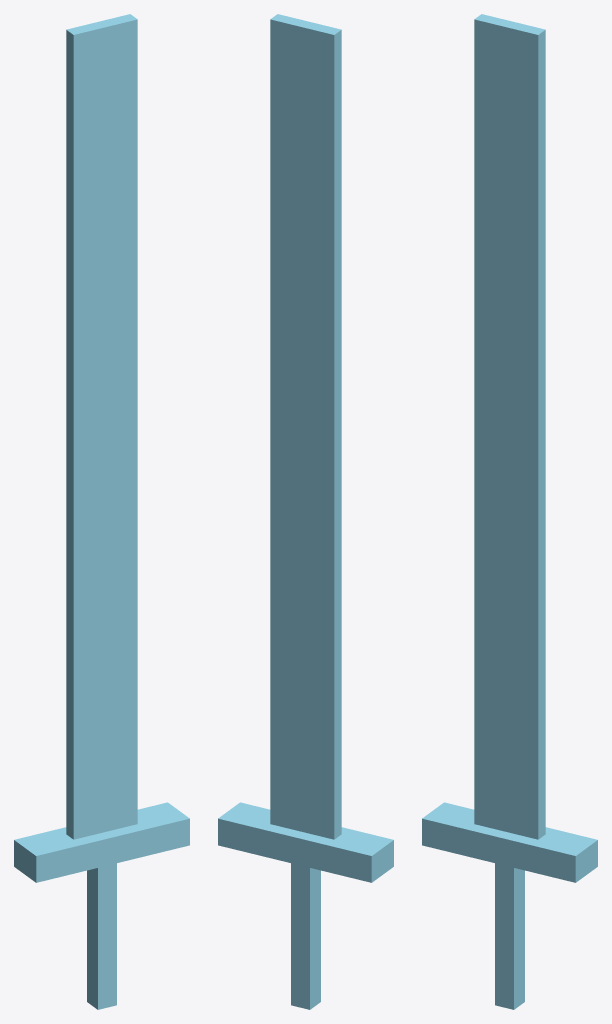
Rendered from frostbite_runeblade.glb.
3 renders of one model, left to right at view 1: azimuth 30°, elevation 25°; view 2: azimuth 150°, elevation 25°; view 3: azimuth 330°, elevation 25°, orthographic.
Parts seen in each view (by area): view 1: frostbite_runeblade; view 2: frostbite_runeblade; view 3: frostbite_runeblade.
Part boxes in pixels (<box>): frostbite_runeblade: <box>14,14,189,1009</box>; frostbite_runeblade: <box>218,14,393,1009</box>; frostbite_runeblade: <box>422,14,597,1009</box>.
Bounding box in the file's own units: 0.24 × 1.46 × 0.06.
